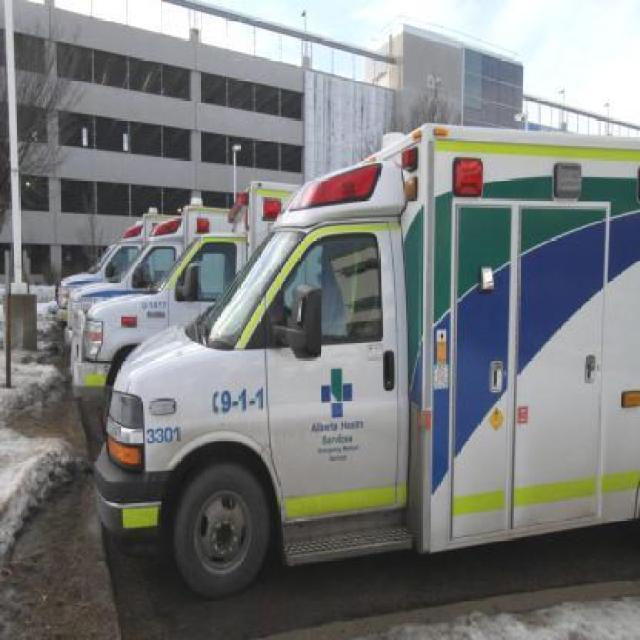emergency: (89, 121, 639, 599), (70, 178, 390, 436), (59, 204, 247, 360), (51, 205, 232, 347)
